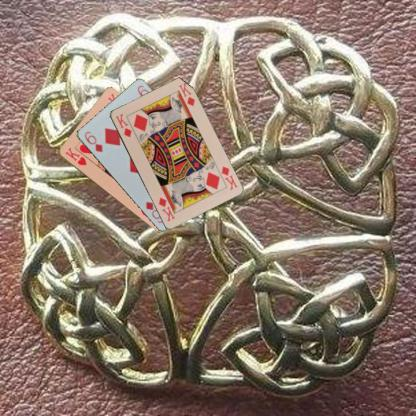6d: (81, 129, 104, 153)
Kd: (113, 111, 133, 139), (218, 164, 238, 191)
Kh: (62, 145, 88, 167)
